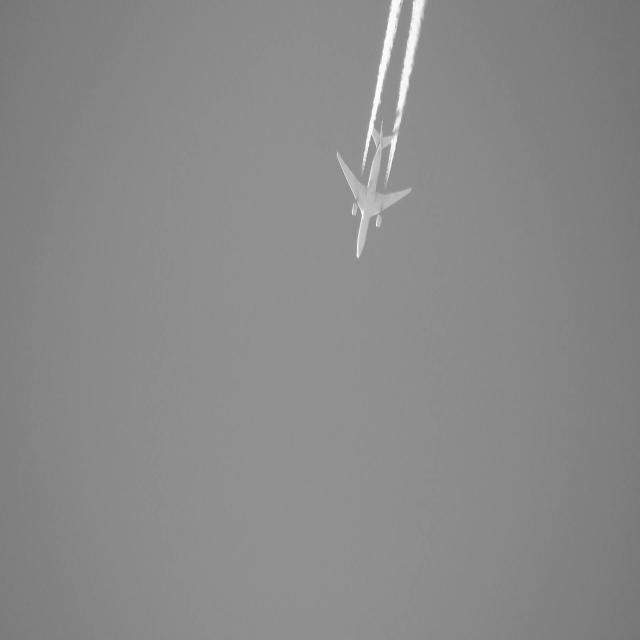aeroplane: (334, 118, 412, 259)
